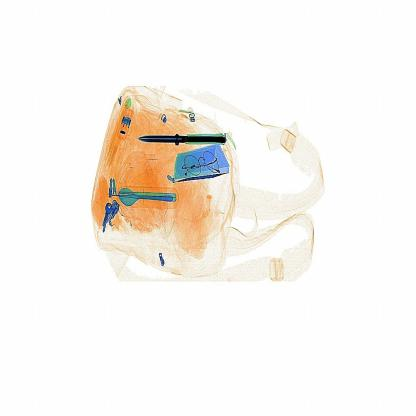gun: (132, 121, 236, 152)
